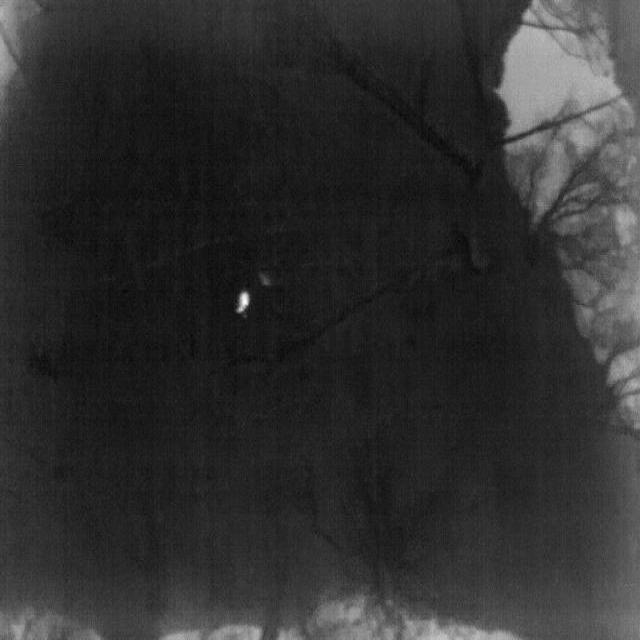deer: (237, 291, 250, 313)
